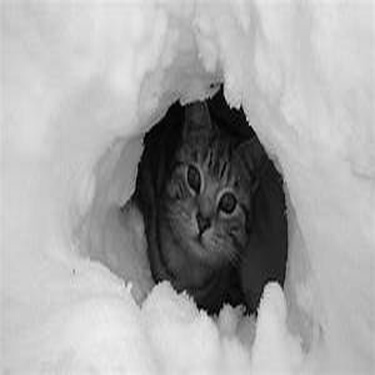cat: (139, 94, 271, 321)
